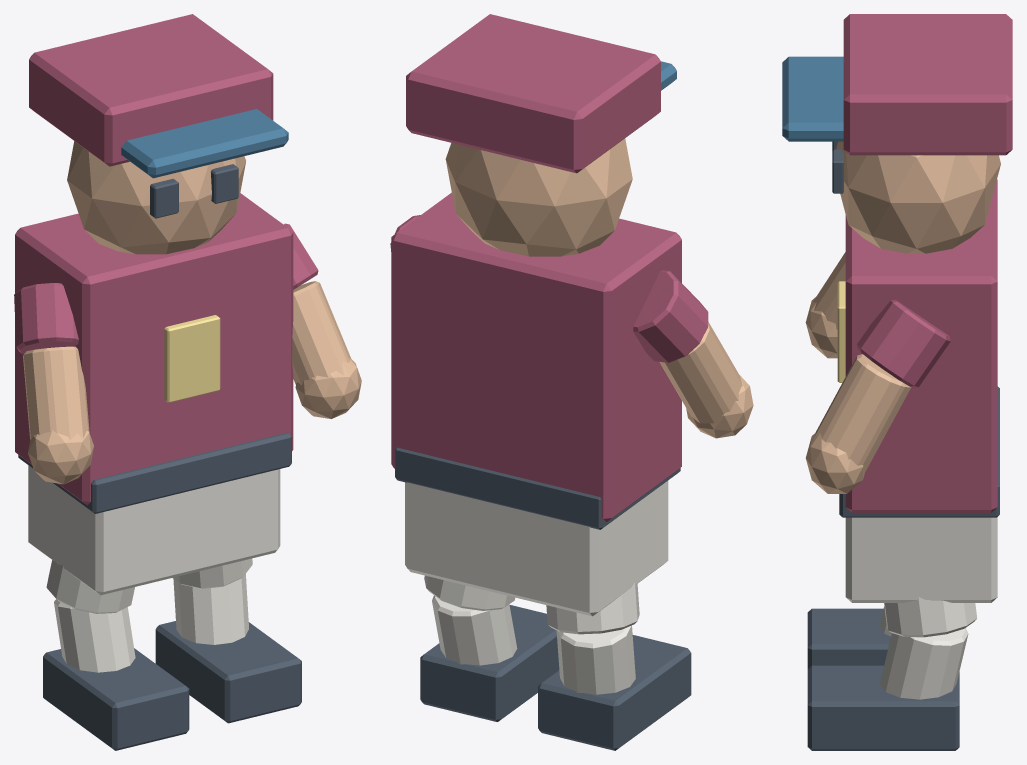
File: player-agile-catcher.glb
3 views of the same model, side by side, from view 1: azimuth 30°, elevation 25°; view 2: azimuth 150°, elevation 25°; view 3: azimuth 270°, elevation 25° (orthographic). The views are drawn at different scales.
Visible parts, largest first — view 1: Jersey_Torso, Cap_Crown, Pants, Head, Cleat_R, Cleat_L, Belt, Cap_Brim, Forearm_R, Shin_R, Jersey_PixelMark, Forearm_L (+9 smaller); view 2: Jersey_Torso, Cap_Crown, Pants, Head, Cleat_R, Cleat_L, Belt, UpperArm_R, Shin_R, Forearm_R, Shin_L, Thigh_R (+2 smaller); view 3: Jersey_Torso, Cap_Crown, Head, Pants, Cleat_L, Forearm_L, Cap_Brim, UpperArm_L, Shin_L, Cleat_R, Thigh_L, Hand_L (+5 smaller).
Part boxes in pixels (left/top/right/bottom): Jersey_Torso: left=15, top=193, right=293, bottom=505; Cap_Crown: left=29, top=14, right=273, bottom=166; Pants: left=28, top=465, right=280, bottom=595; Head: left=67, top=141, right=245, bottom=254; Cleat_R: left=43, top=648, right=189, bottom=750; Cleat_L: left=155, top=621, right=301, bottom=723; Belt: left=18, top=432, right=291, bottom=513; Cap_Brim: left=121, top=109, right=288, bottom=178; Forearm_R: left=23, top=346, right=89, bottom=440; Shin_R: left=54, top=599, right=135, bottom=672; Jersey_PixelMark: left=164, top=315, right=220, bottom=402; Forearm_L: left=292, top=281, right=351, bottom=385; Jersey_Torso: left=391, top=192, right=681, bottom=522; Cap_Crown: left=406, top=14, right=660, bottom=173; Pants: left=405, top=480, right=668, bottom=616; Head: left=445, top=138, right=632, bottom=256; Cleat_R: left=538, top=635, right=691, bottom=750; Cleat_L: left=420, top=605, right=559, bottom=721; Belt: left=395, top=447, right=680, bottom=529; UpperArm_R: left=633, top=270, right=708, bottom=362; Shin_R: left=556, top=625, right=635, bottom=694; Forearm_R: left=659, top=322, right=742, bottom=423; Shin_L: left=432, top=595, right=517, bottom=665; Thigh_R: left=546, top=582, right=639, bottom=634; Jersey_Torso: left=845, top=179, right=997, bottom=512; Cap_Crown: left=843, top=14, right=1012, bottom=155; Head: left=836, top=141, right=1000, bottom=253; Pants: left=845, top=517, right=997, bottom=602; Cleat_L: left=807, top=665, right=959, bottom=750; Forearm_L: left=812, top=354, right=911, bottom=471; Cap_Brim: left=782, top=56, right=843, bottom=141; UpperArm_L: left=857, top=300, right=950, bottom=387; Shin_L: left=880, top=628, right=968, bottom=699; Cleat_R: left=807, top=608, right=890, bottom=668; Thigh_L: left=884, top=597, right=976, bottom=637; Hand_L: left=805, top=433, right=865, bottom=493.
Bounding box in the file's own units: 0.9217 × 1.7 × 0.545.
